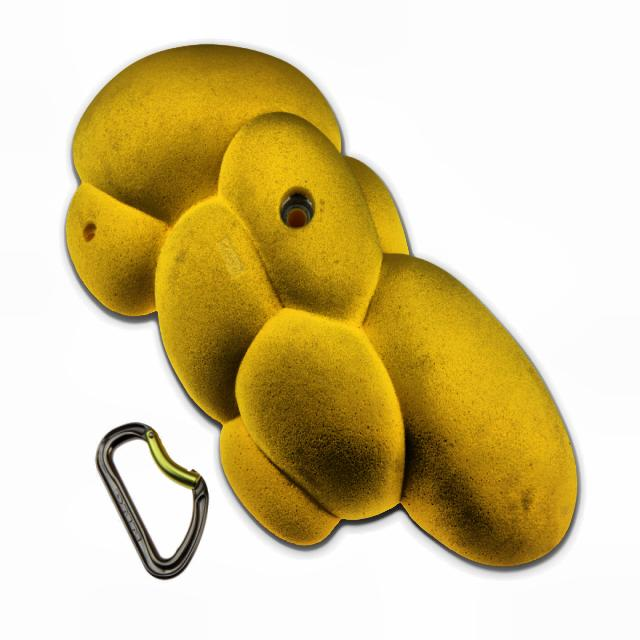Hold: (40, 32, 618, 588)
